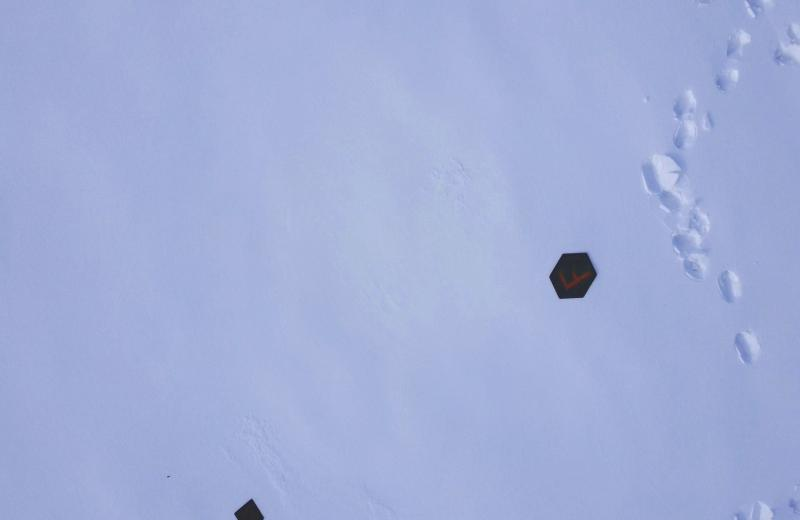Hexagon: (548, 249, 597, 299)
Square: (234, 495, 268, 520)
